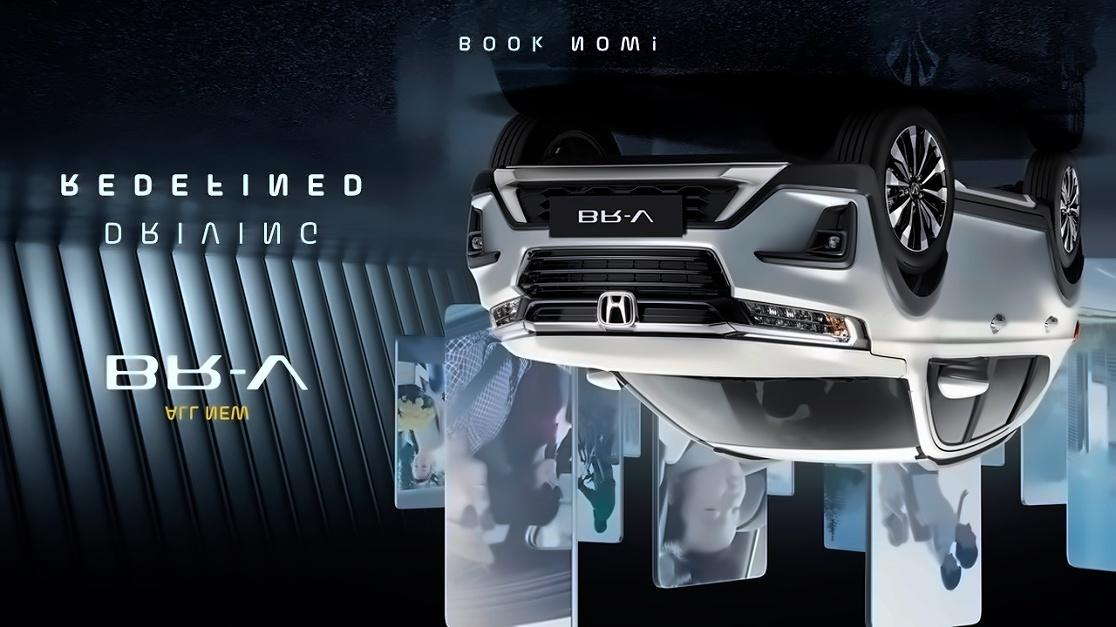Car hood: (493, 332, 910, 381)
Driver-s door - -F-R-: (928, 194, 1009, 460)
Fender - -F-R-: (869, 185, 958, 394)
Front bumper: (458, 155, 903, 303)
Headlight - -L-: (484, 291, 543, 346)
Headlight - -R-: (725, 291, 874, 353)
Passenger-s door - -R-R-: (1010, 193, 1061, 444), (1041, 202, 1079, 352)
Rear bumper: (1073, 225, 1096, 292)
Side bumper - -R-: (946, 173, 1054, 236)
Side mirror - -L-: (579, 364, 633, 400)
Side mirror - -R-: (932, 357, 995, 401), (1067, 318, 1089, 349)
